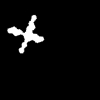single_crochet: (8, 15, 43, 52)
